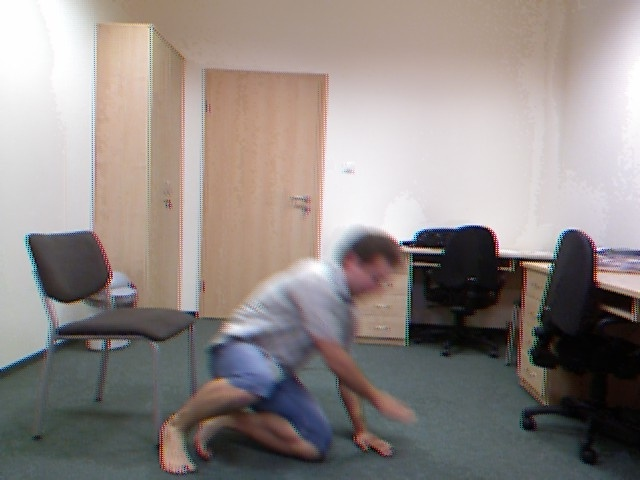fall: (145, 225, 421, 477)
